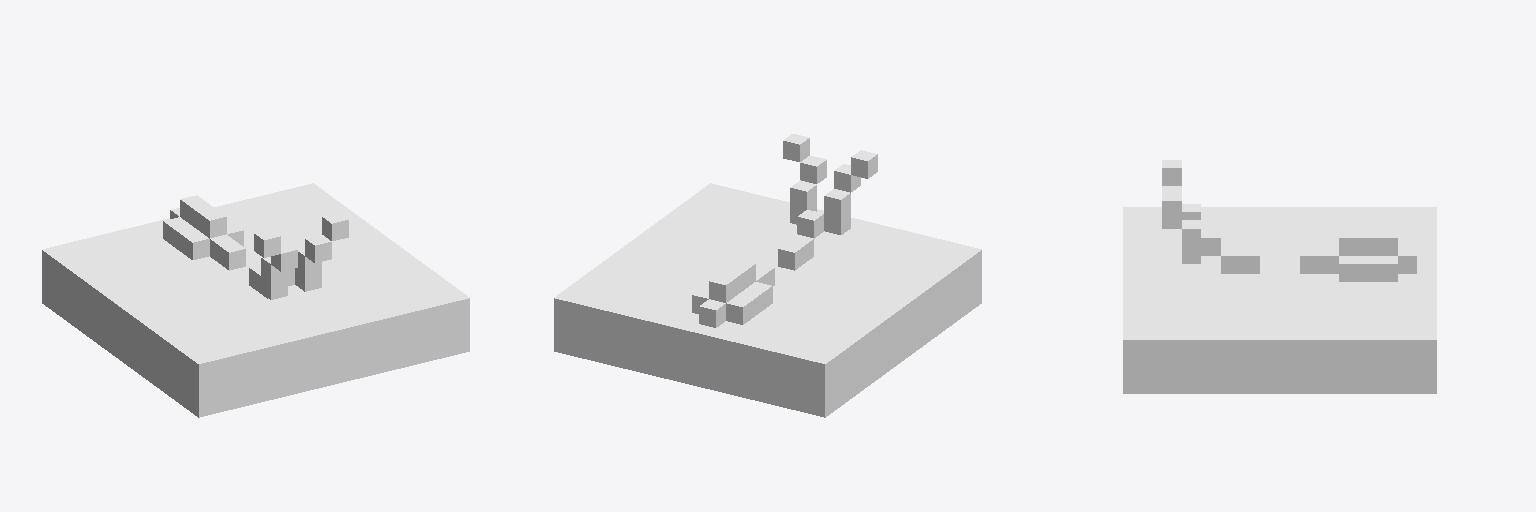
File: whale.obj
3 renders of one model, left to right at view 1: azimuth 30°, elevation 25°; view 2: azimuth 150°, elevation 25°; view 3: azimuth 270°, elevation 25°, orthographic.
Parts seen in each view (by area): view 1: Whale; view 2: Whale; view 3: Whale.
Boxes of the visible parts, box(x1,y1,x2,y2) form: Whale: box(42, 183, 469, 417); Whale: box(554, 134, 981, 417); Whale: box(1123, 160, 1436, 393).
Size of the model in its own units: 16 by 8 by 16.